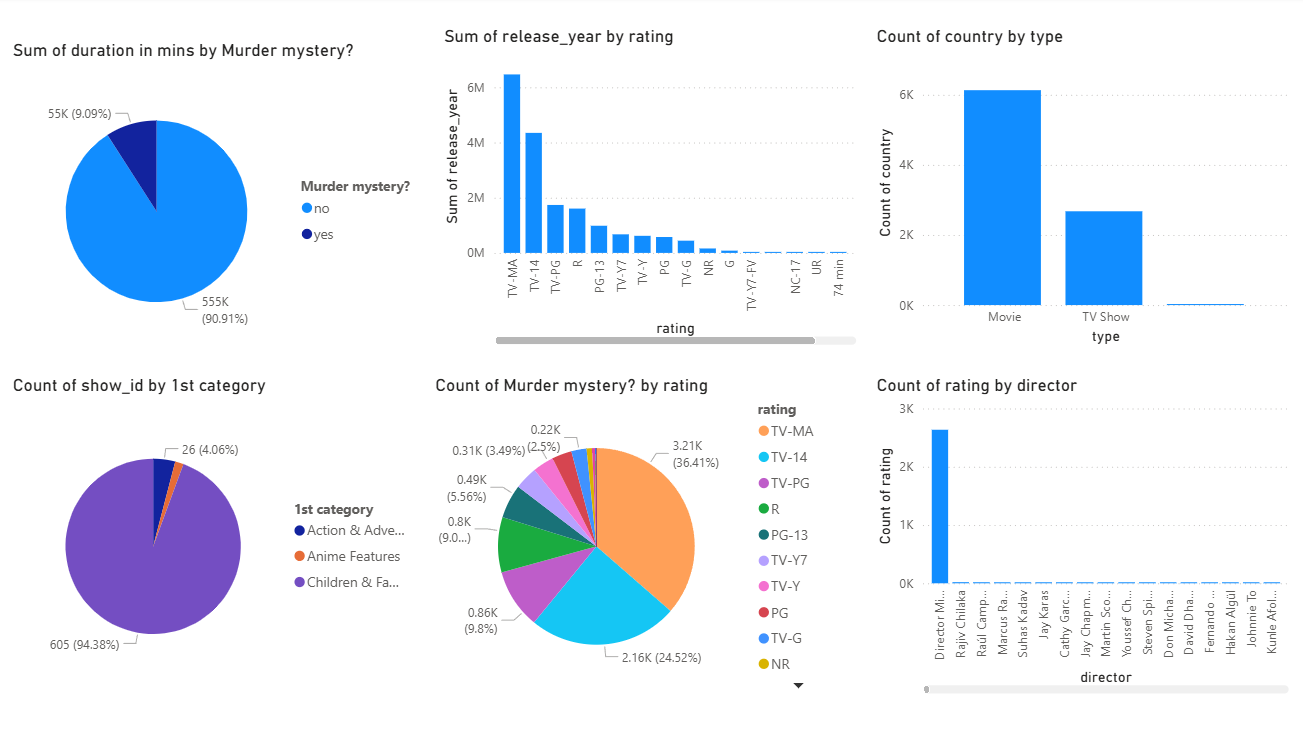

The page's visual inventory and layout, read from the dashboard file:
{"tool":"powerbi","page":{"name":"Page 1","canvas":[1280,720],"ordinal":0},"visuals":[{"type":"pieChart","fields":{"Category":["netflix_titles (2).Murder mystery?"],"Y":["netflix_titles (2).duration in mins"]},"box":[9.6,42.5,413,317],"z":0},{"type":"pieChart","fields":{"Y":["Category mapping.show_id"],"Series":["netflix_titles (2).1st category"]},"box":[9.6,370.5,403.4,317],"z":1},{"type":"pieChart","fields":{"Category":["netflix_titles (2).rating"],"Y":["netflix_titles (2).Murder mystery?"]},"box":[423,370,403,317],"z":2},{"type":"clusteredColumnChart","fields":{"Category":["netflix_titles (2).rating"],"Y":["netflix_titles (2).release_year"]},"box":[432.2,28.8,413,317],"z":3},{"type":"columnChart","fields":{"Category":["netflix_titles (2).type"],"Y":["netflix_titles (2).country"]},"box":[855,29,413,317],"z":4},{"type":"columnChart","fields":{"Category":["netflix_titles (2).director"],"Y":["netflix_titles (2).rating"]},"box":[855,370,413,317],"z":5}]}

Visuals, with their boxes in screenshot pixels (x1, y1, x2, y2), scaled from the page's 1280x720 canvas onto the 1303x732 screenshot:
pieChart - netflix_titles (2).Murder mystery? x netflix_titles (2).duration in mins: 10:43:430:365
pieChart - Category mapping.show_id x netflix_titles (2).1st category: 10:377:420:699
pieChart - netflix_titles (2).rating x netflix_titles (2).Murder mystery?: 431:376:841:698
clusteredColumnChart - netflix_titles (2).rating x netflix_titles (2).release_year: 440:29:860:352
columnChart - netflix_titles (2).type x netflix_titles (2).country: 870:29:1291:352
columnChart - netflix_titles (2).director x netflix_titles (2).rating: 870:376:1291:698
